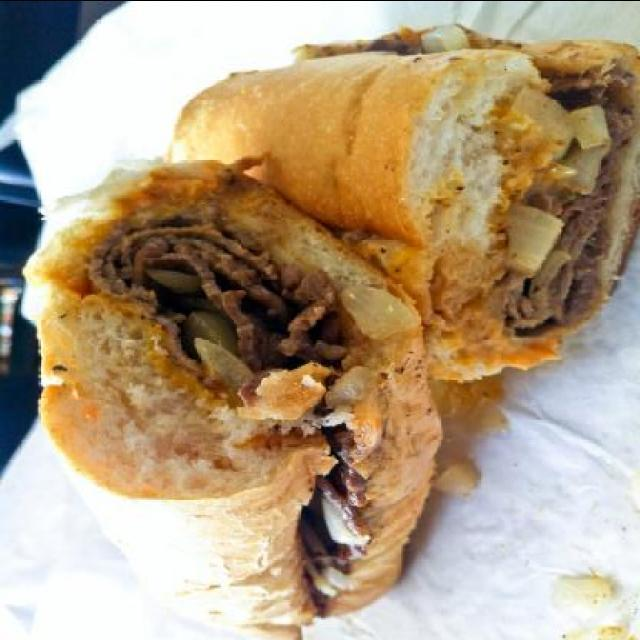Sandwich: (20, 152, 446, 640), (160, 16, 640, 382)
